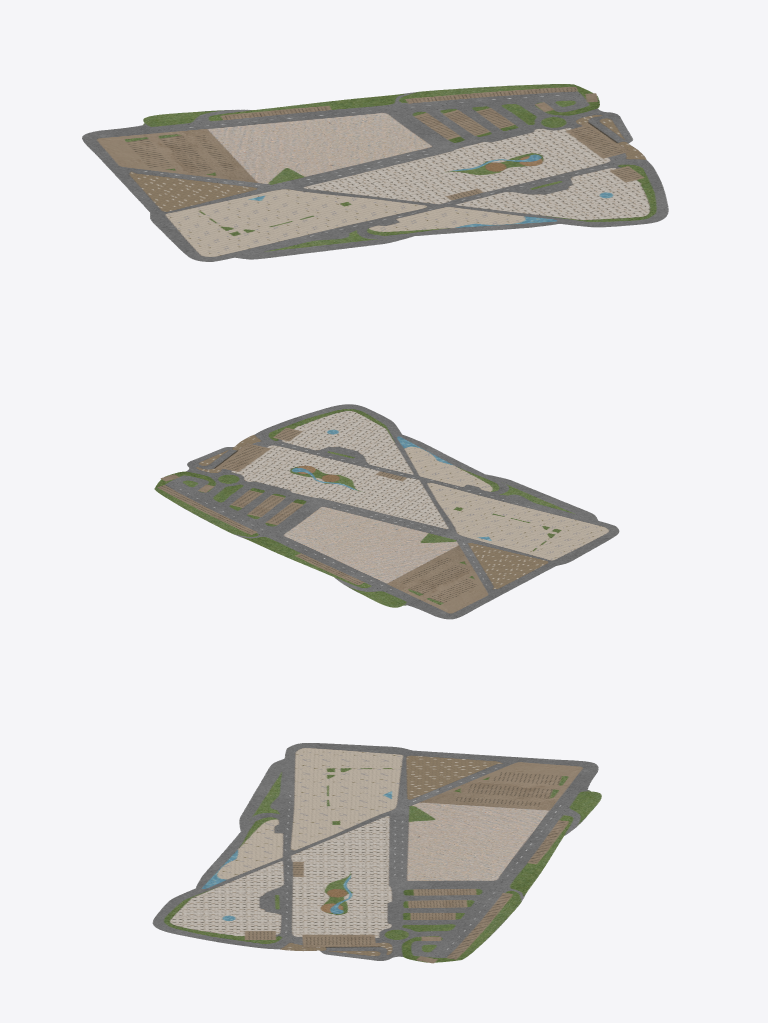
Rendered from FloorGrid.glb.
The picture shows the model from 3 angles, top to bottom: view 1: azimuth 30°, elevation 25°; view 2: azimuth 150°, elevation 25°; view 3: azimuth 270°, elevation 25°; orthographic projection. The views are drawn at different scales.
Visible parts, largest first — view 1: Plane; view 2: Plane; view 3: Plane.
Boxes of the visible parts, x1,y1,x2,y2 form: Plane: (82, 84, 668, 261); Plane: (154, 404, 619, 619); Plane: (152, 743, 601, 963).
Size of the model in its own units: 426 by 0 by 426.
Materials: 1 (1 with a texture image).
